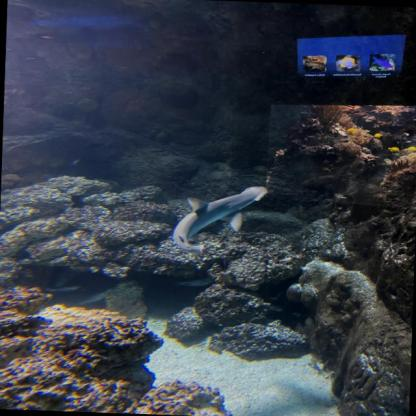shark: (173, 183, 268, 254)
